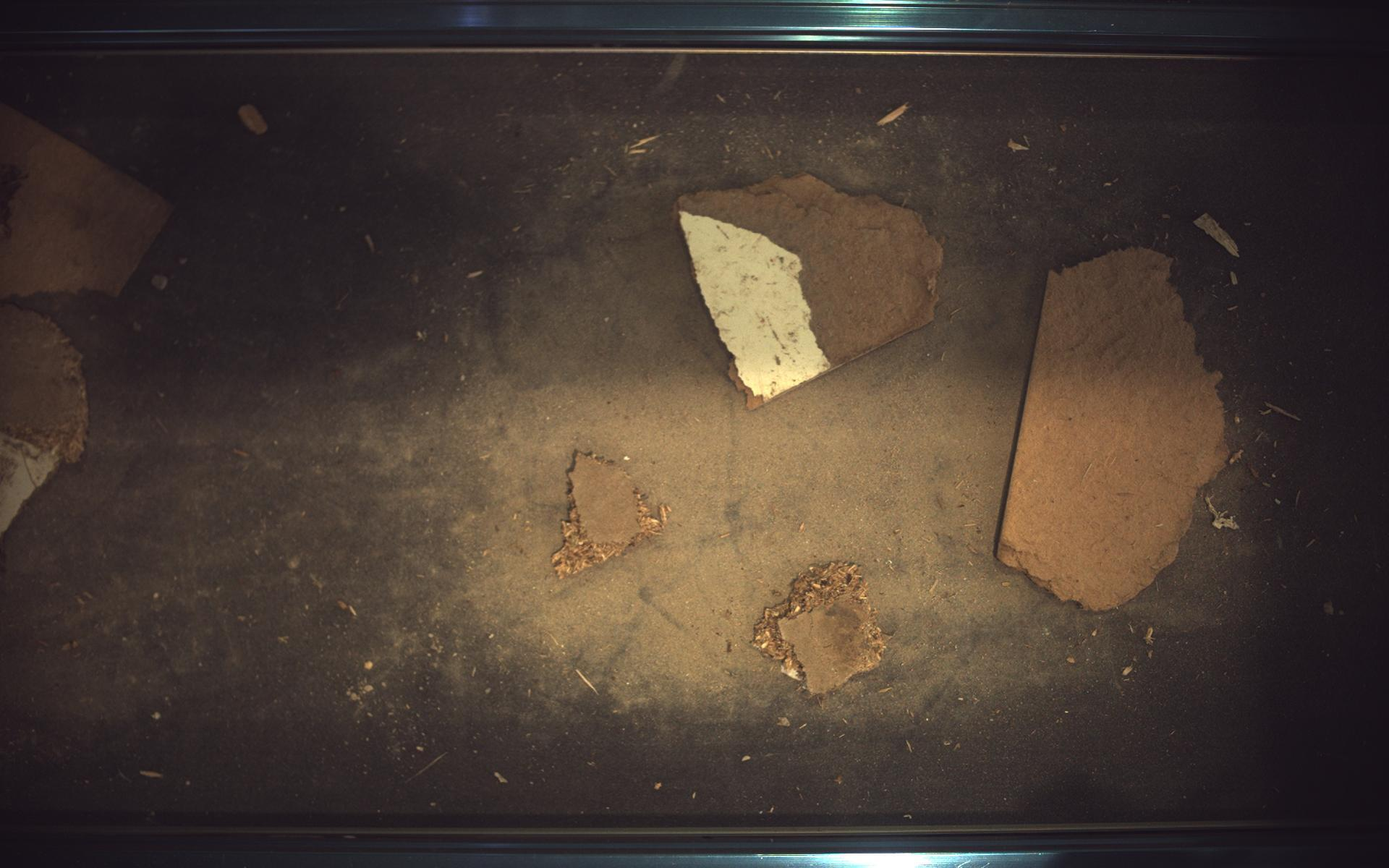wood: (999, 247, 1231, 611), (680, 174, 944, 409), (1, 102, 171, 298), (1, 305, 87, 535), (755, 562, 888, 695), (553, 451, 670, 579)
